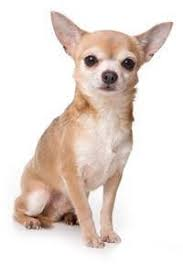Bulldog: (9, 4, 176, 260)
